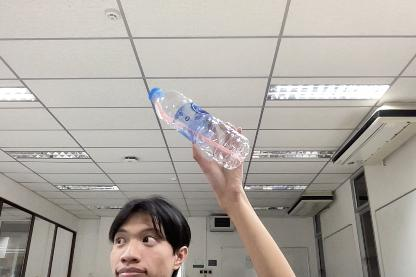Plastic Bottle: (146, 82, 250, 172)
